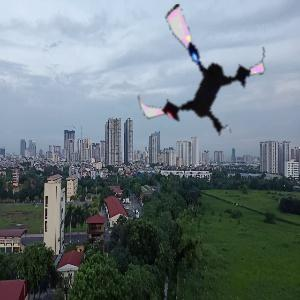drone: (127, 2, 273, 148)
